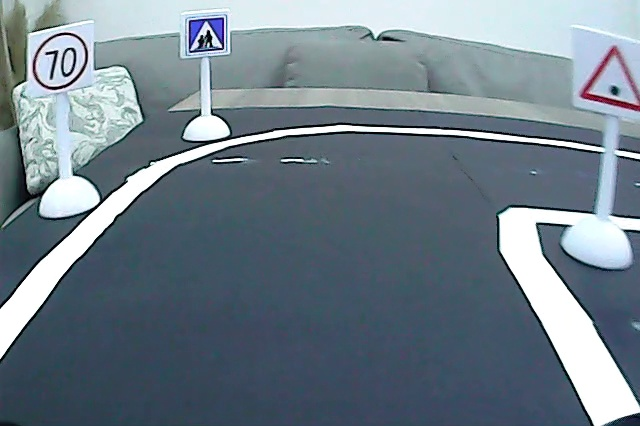green light: (577, 41, 640, 117)
school crossing: (185, 15, 229, 58)
speed limit 70: (32, 28, 90, 92)
